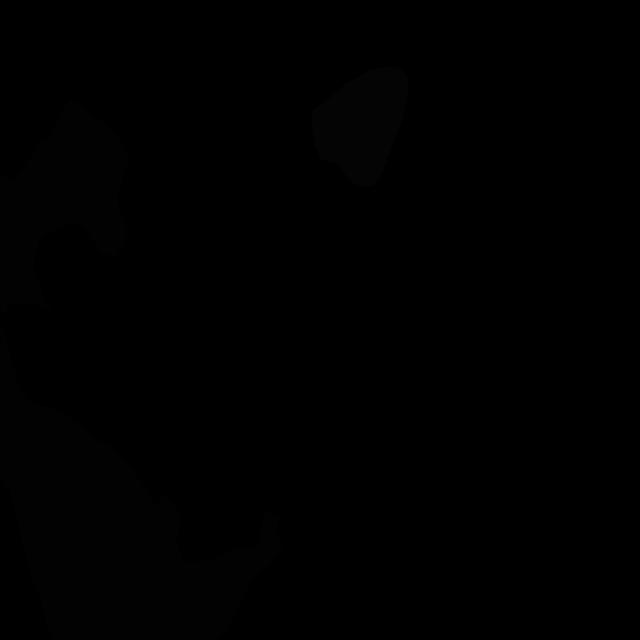cardboard: (0, 321, 283, 640), (0, 99, 129, 315)
soft_plastic: (311, 67, 408, 187)
